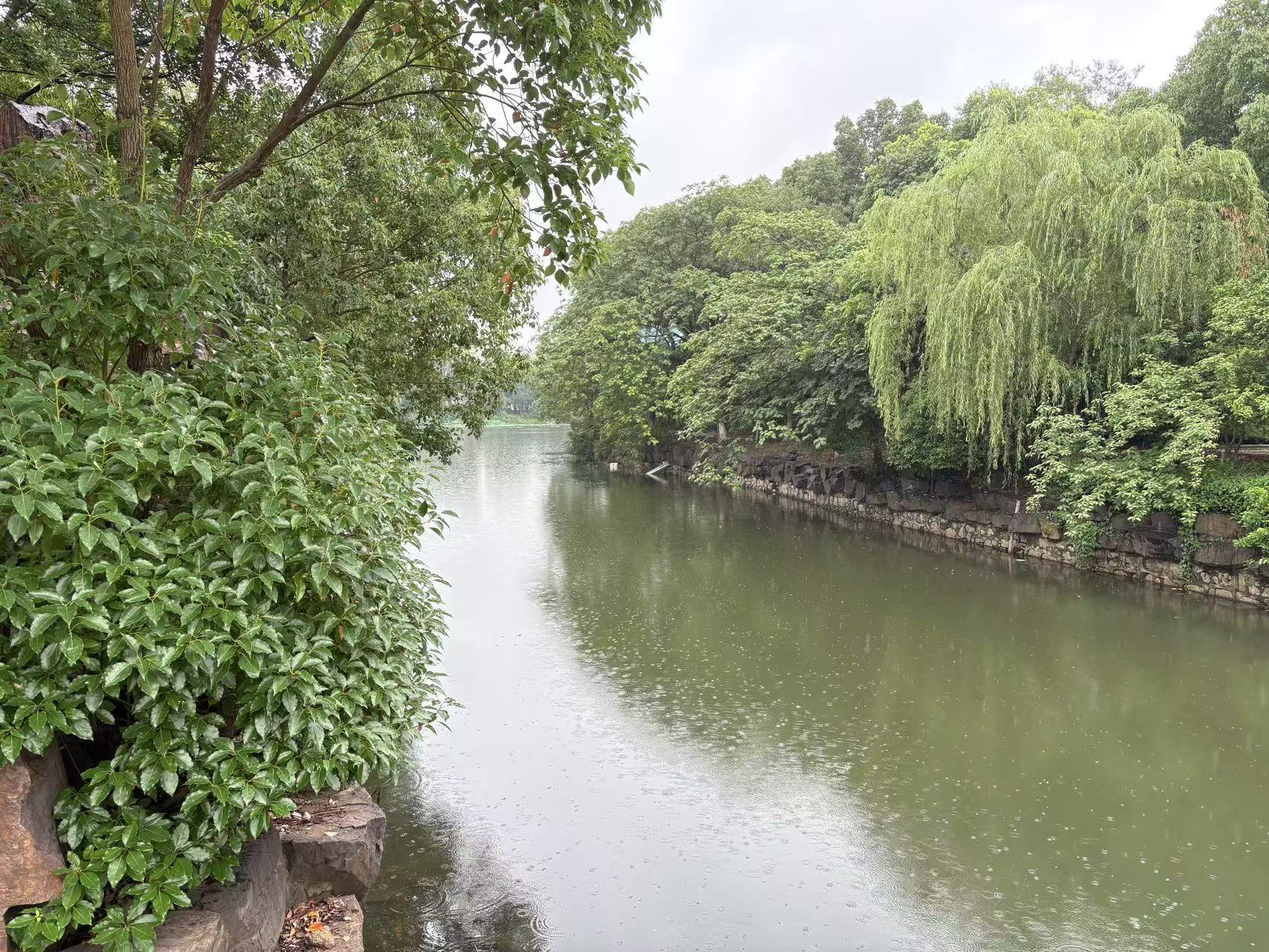Plastic wastes: (608, 460, 619, 472), (1013, 558, 1026, 562)
